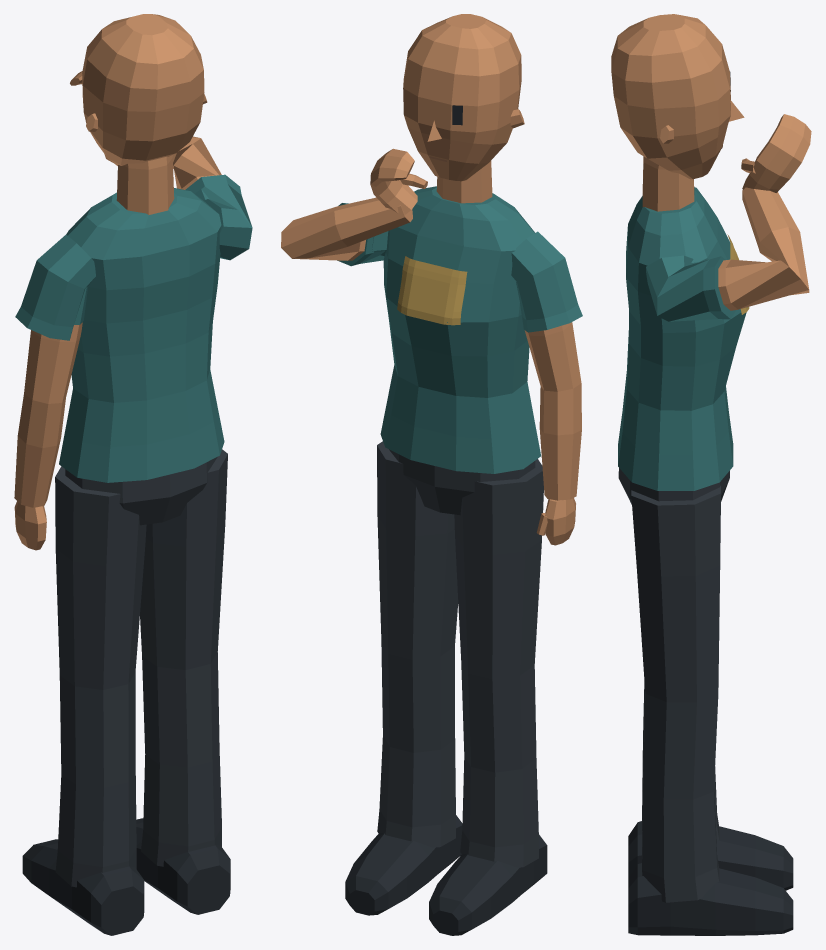
The model's file is lwf_attendee_female_drinking_beer_v2.glb.
3 views of the same model, side by side, from view 1: azimuth 30°, elevation 25°; view 2: azimuth 150°, elevation 25°; view 3: azimuth 270°, elevation 25° (orthographic). The views are drawn at different scales.
Visible parts, largest first — view 1: Attendee_female_drinking_beer_v6; view 2: Attendee_female_drinking_beer_v6; view 3: Attendee_female_drinking_beer_v6.
Part boxes in pixels (<box>): Attendee_female_drinking_beer_v6: <box>14,14,252,935</box>; Attendee_female_drinking_beer_v6: <box>281,14,582,935</box>; Attendee_female_drinking_beer_v6: <box>611,14,811,935</box>.
Size of the model in its own units: 0.474 by 1.66 by 0.3388.
1 material, 1 textured.
